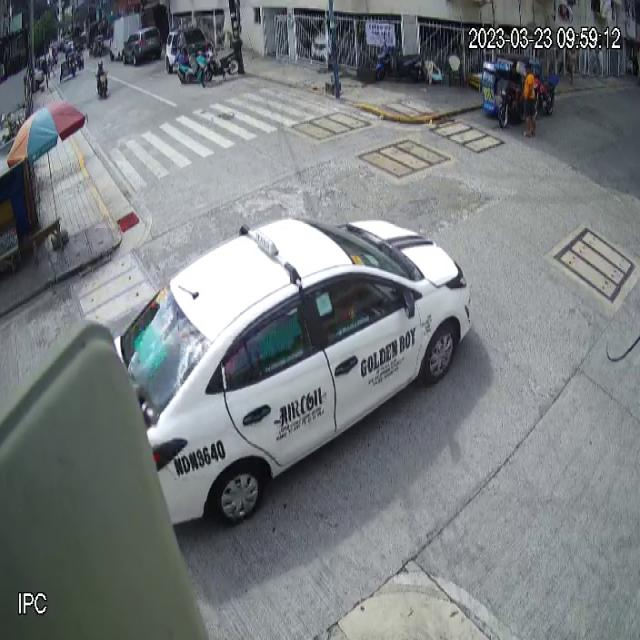Car: (113, 217, 474, 524)
Tricycle: (482, 52, 530, 130)
